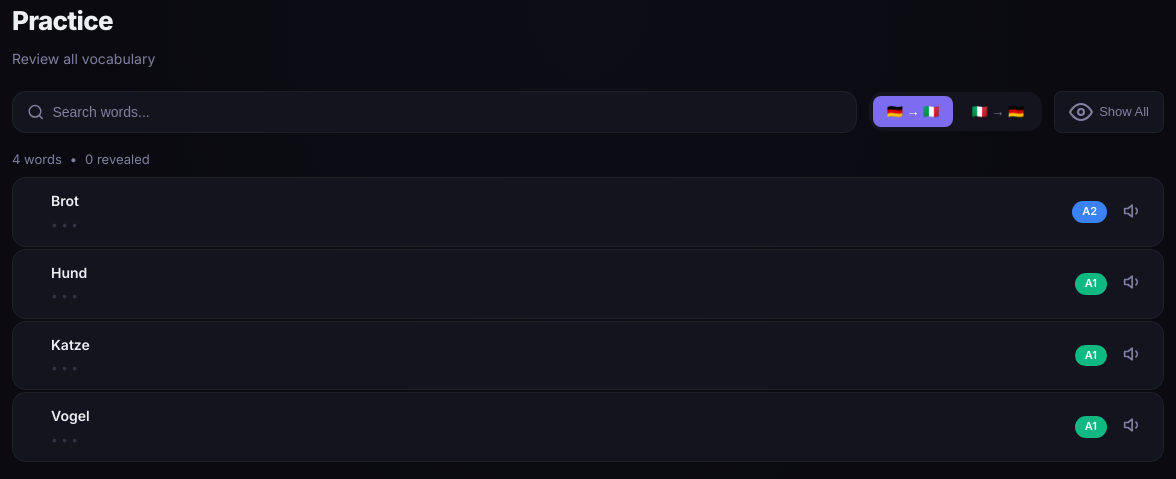
Test case: PracticePage › filters words by search term
The width and height of the screenshot is (1176, 479).
Type "Hund" into the field with placeholder "Search words..." at x=447, y=112, box x1=52 y1=104 x2=842 y2=120
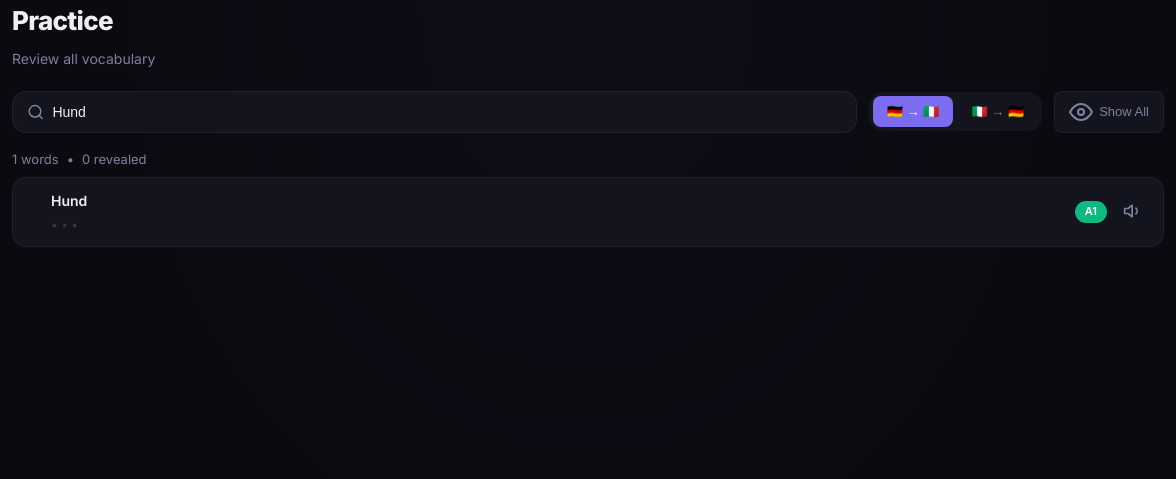
Expected: the text "Hund" is shown, x1=51 y1=192 x2=87 y2=209
Result: the text "Brot" is gone
